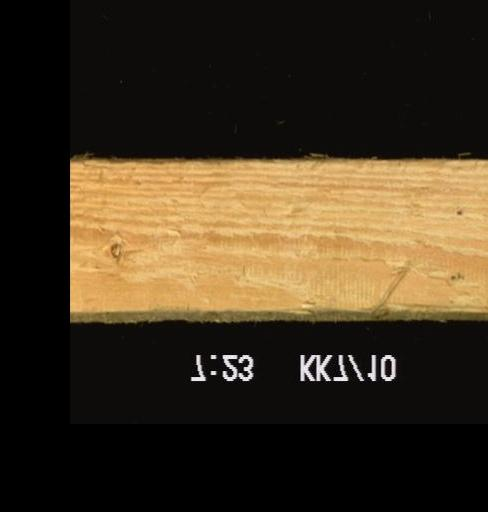small_knot: (104, 240, 123, 262)
